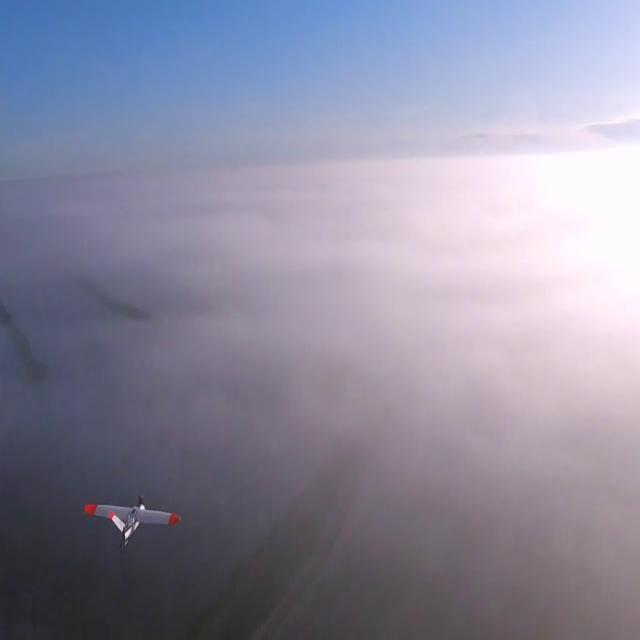iha: (114, 488, 150, 542)
